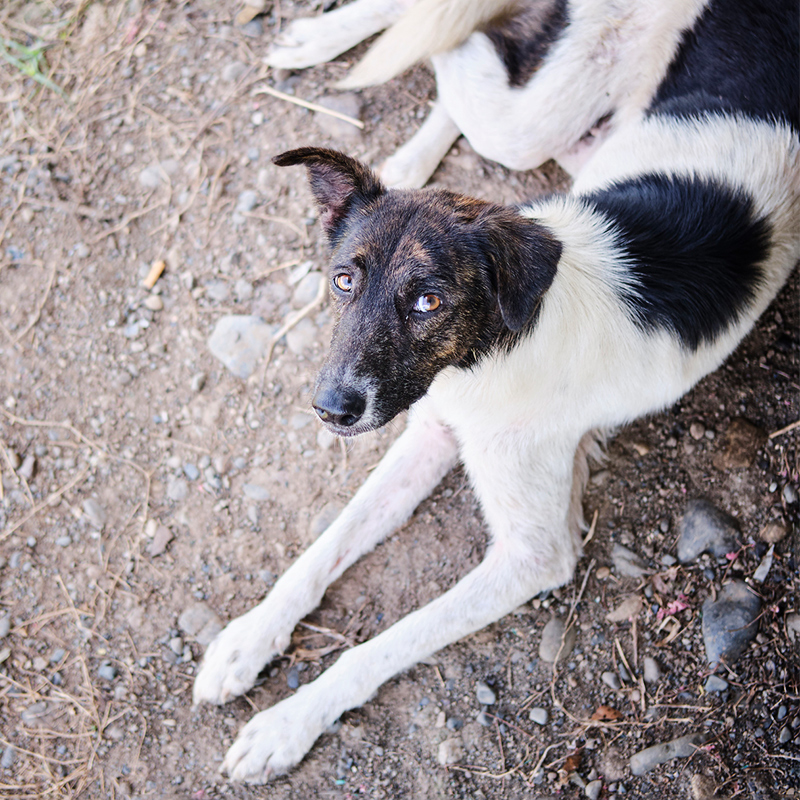Dog: (124, 7, 800, 782)
